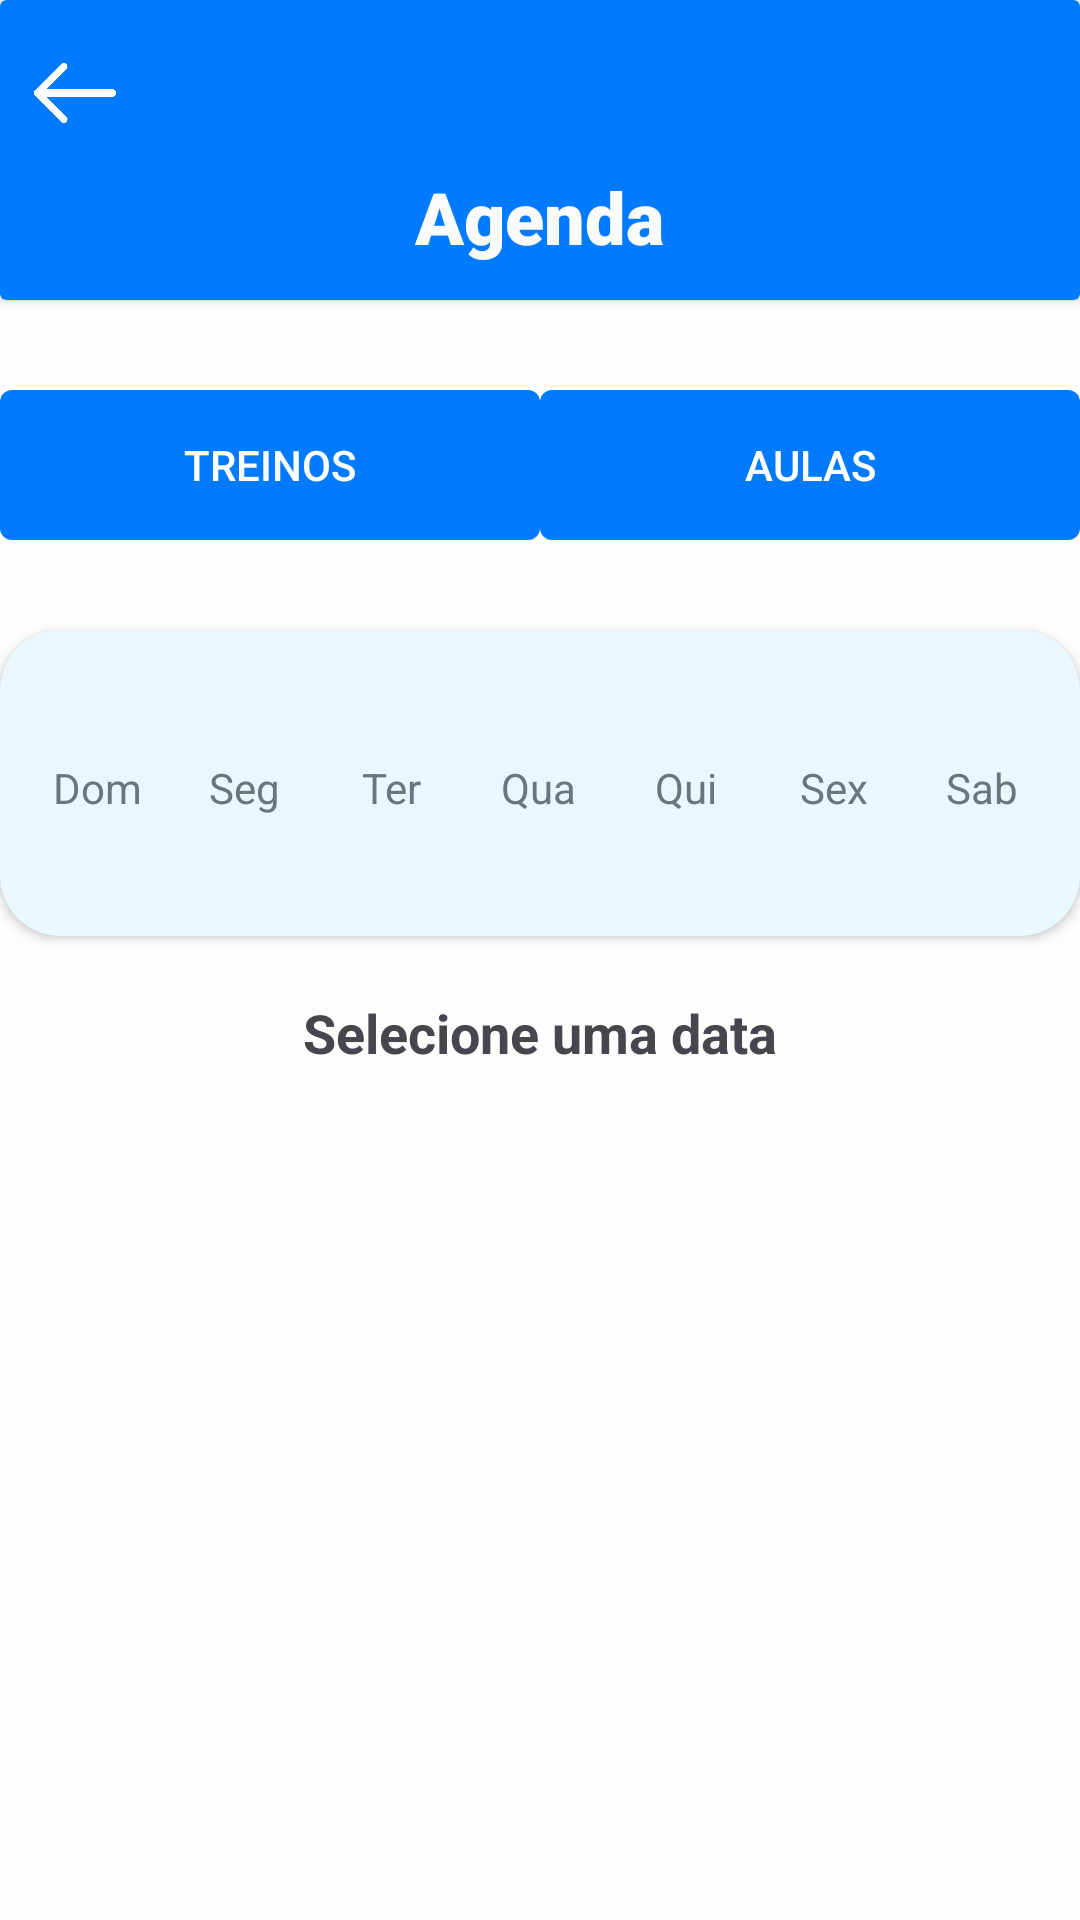

Icons on this 1080w x 1920h Android screen, each with its box as {"left": x1, "top": y1, "right": x2, "bottom": y2}:
Voltar: {"left": 34, "top": 63, "right": 116, "bottom": 123}
